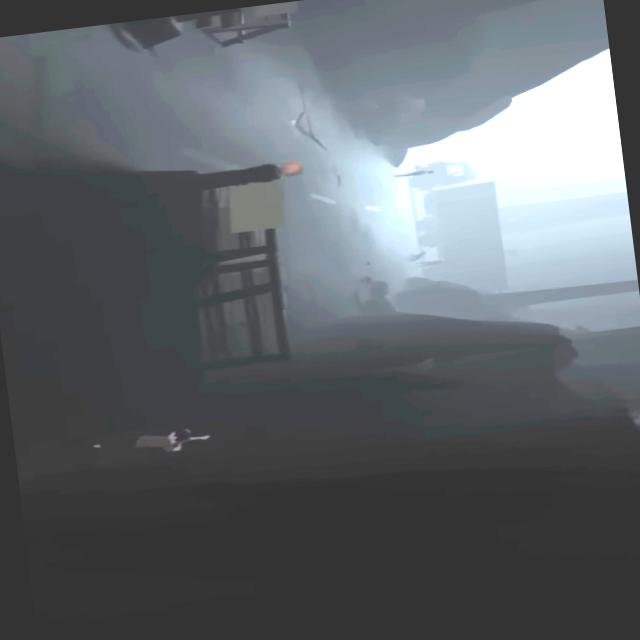boy: (79, 425, 209, 462)
